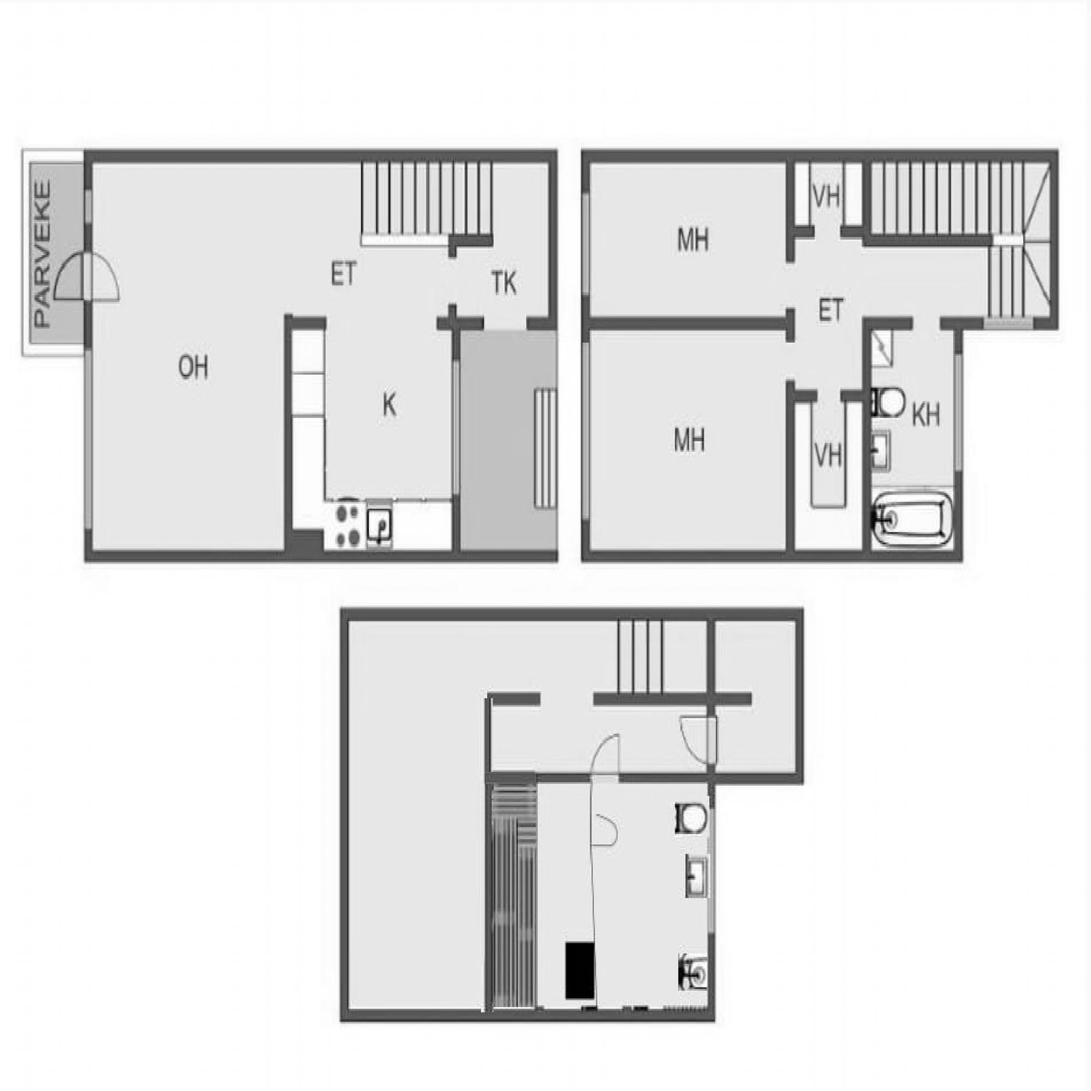wall: (581, 151, 1058, 164), (84, 152, 557, 165), (339, 607, 803, 620), (580, 549, 962, 562), (339, 1008, 717, 1021), (84, 550, 459, 563), (580, 150, 589, 562), (83, 151, 92, 562), (339, 607, 347, 1020), (785, 150, 793, 562), (580, 316, 794, 331), (484, 692, 717, 705), (484, 773, 708, 786), (708, 773, 717, 1021), (484, 773, 493, 1021), (590, 773, 599, 1021), (451, 316, 459, 563), (284, 316, 292, 563), (954, 318, 962, 563), (862, 318, 870, 563), (862, 234, 989, 247), (795, 608, 804, 786), (1050, 151, 1058, 331), (549, 152, 557, 329), (451, 316, 557, 329), (954, 318, 1058, 331), (459, 550, 557, 563), (708, 773, 804, 786), (862, 317, 954, 330), (785, 389, 870, 402), (785, 224, 862, 237), (484, 692, 493, 786), (708, 607, 716, 704), (862, 151, 870, 247), (448, 231, 457, 315), (708, 692, 716, 773), (292, 529, 322, 549), (448, 232, 493, 245), (284, 316, 325, 329), (717, 692, 752, 705), (436, 316, 451, 329)
